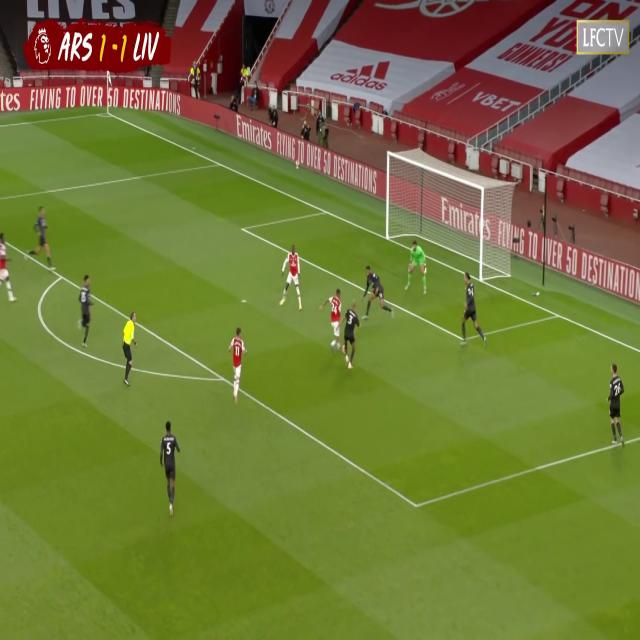Ball: (343, 344, 348, 355)
GoalKeeper: (405, 240, 427, 296)
TEAM 1: (279, 245, 304, 312), (0, 229, 19, 305), (327, 288, 345, 356), (230, 330, 246, 403)
TEAM 2: (458, 272, 488, 348), (604, 365, 626, 445), (160, 426, 178, 514), (75, 274, 93, 346), (34, 206, 55, 266), (342, 306, 359, 372), (363, 268, 385, 318)
